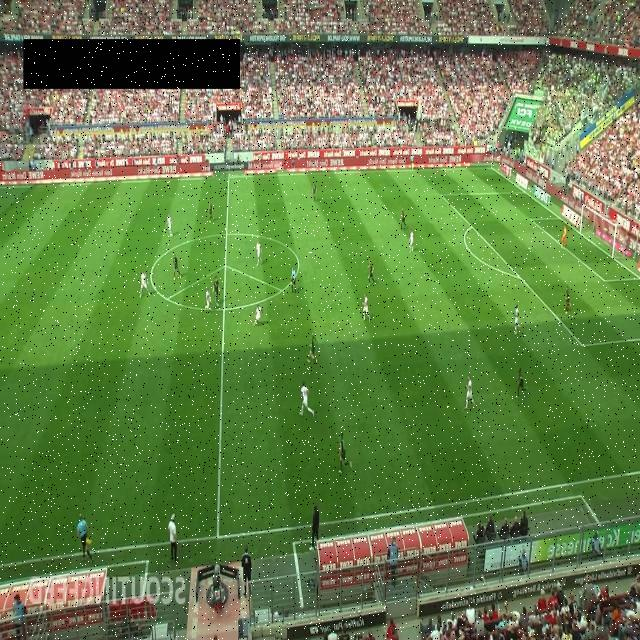Corner: (488, 146, 496, 170)
GoalKeeper: (560, 224, 568, 249)
Referee: (76, 512, 94, 564), (290, 266, 296, 293), (410, 152, 415, 172)
TEAM 1: (298, 380, 314, 418), (464, 374, 476, 410), (139, 270, 151, 298), (362, 292, 370, 322), (253, 304, 263, 326), (204, 288, 213, 312), (514, 303, 520, 334), (255, 241, 262, 267), (167, 214, 173, 238), (409, 230, 414, 253)
TEAM 2: (338, 431, 353, 475), (516, 366, 528, 398), (306, 334, 318, 364), (172, 253, 182, 280), (212, 275, 220, 307), (564, 286, 572, 316), (368, 260, 376, 286), (400, 207, 408, 230), (208, 201, 214, 223), (313, 182, 317, 202)
